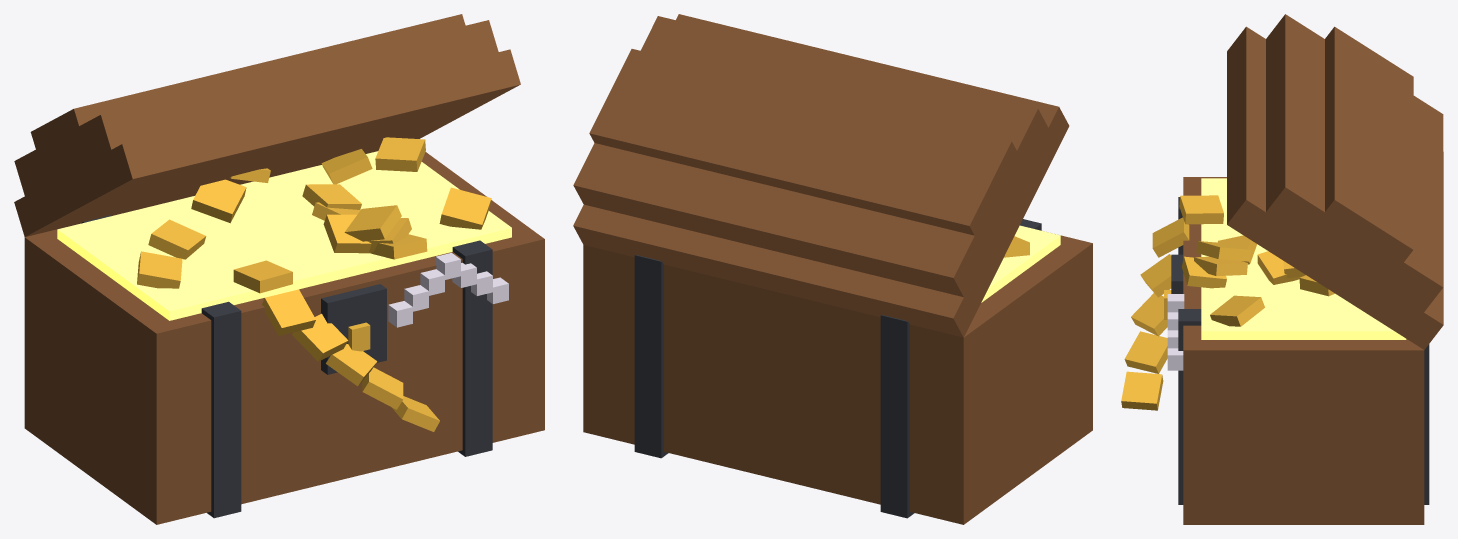
The picture shows the model from 3 angles, left to right: view 1: azimuth 30°, elevation 25°; view 2: azimuth 150°, elevation 25°; view 3: azimuth 270°, elevation 25°; orthographic projection. The views are drawn at different scales.
Visible parts, largest first — view 1: R032_Main, R032_Glow, R032_Trim, R032_Accent, R032_Gem; view 2: R032_Main, R032_Accent, R032_Glow; view 3: R032_Main, R032_Trim, R032_Glow, R032_Accent, R032_Gem.
Boxes of the visible parts, bbox=[...] form: R032_Main: bbox=[14, 14, 544, 524]; R032_Glow: bbox=[57, 151, 511, 320]; R032_Trim: bbox=[137, 137, 491, 431]; R032_Accent: bbox=[80, 215, 492, 518]; R032_Gem: bbox=[388, 253, 508, 327]; R032_Main: bbox=[573, 14, 1092, 524]; R032_Accent: bbox=[634, 219, 1041, 518]; R032_Glow: bbox=[981, 225, 1060, 302]; R032_Main: bbox=[1183, 14, 1443, 524]; R032_Trim: bbox=[1121, 195, 1334, 410]; R032_Glow: bbox=[1201, 178, 1406, 339]; R032_Accent: bbox=[1171, 197, 1429, 504]; R032_Gem: bbox=[1167, 294, 1184, 370].
Bounding box in the file's own units: 1.7 × 1.57 × 1.34.
